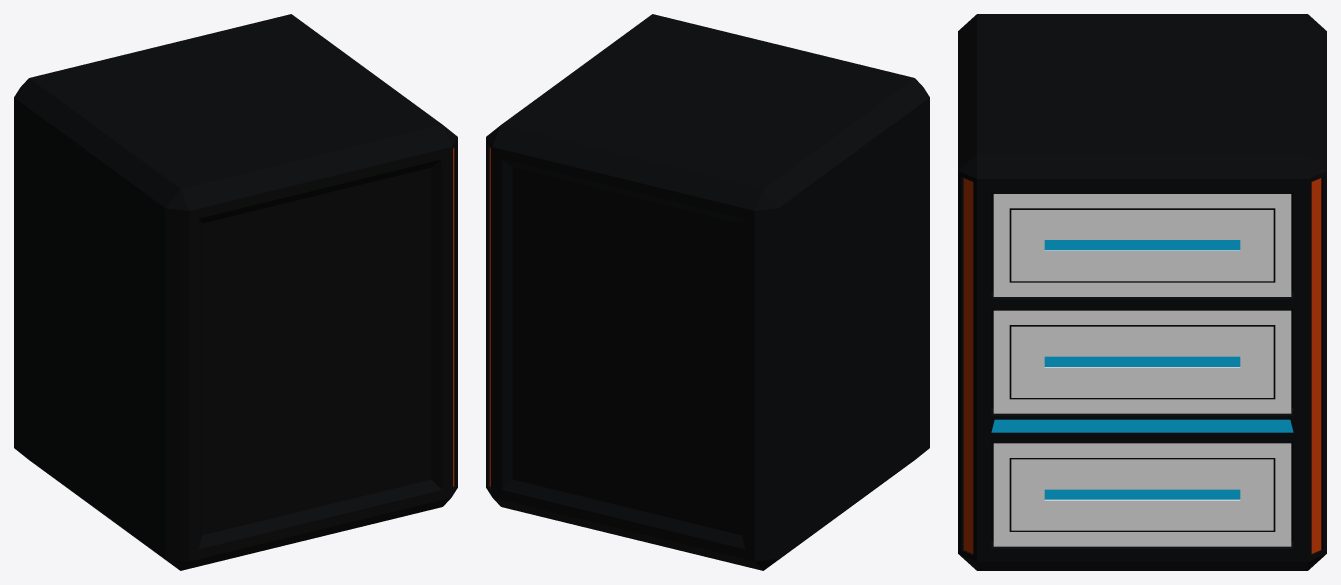
The model's file is SM_Data_Cabinet.obj.
The picture shows the model from 3 angles, left to right: view 1: azimuth 30°, elevation 25°; view 2: azimuth 150°, elevation 25°; view 3: azimuth 270°, elevation 25°; orthographic projection. The views are drawn at different scales.
Parts seen in each view (by area): view 1: SM_Data_Cabinet; view 2: SM_Data_Cabinet; view 3: SM_Data_Cabinet.
Part boxes in pixels (x1,y1,x2,y2): SM_Data_Cabinet: [14, 14, 457, 570]; SM_Data_Cabinet: [486, 14, 929, 570]; SM_Data_Cabinet: [958, 14, 1326, 570].
Bounding box in the file's own units: 0.4 × 0.4993 × 0.4.
